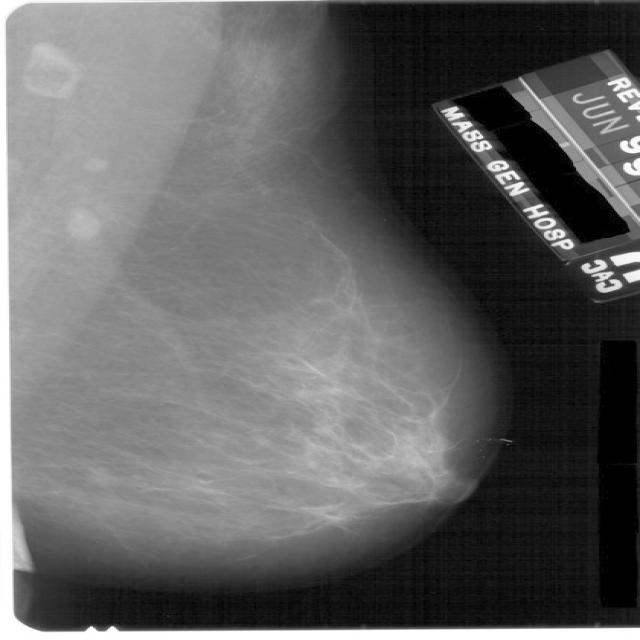tumour: (81, 461, 120, 484)
